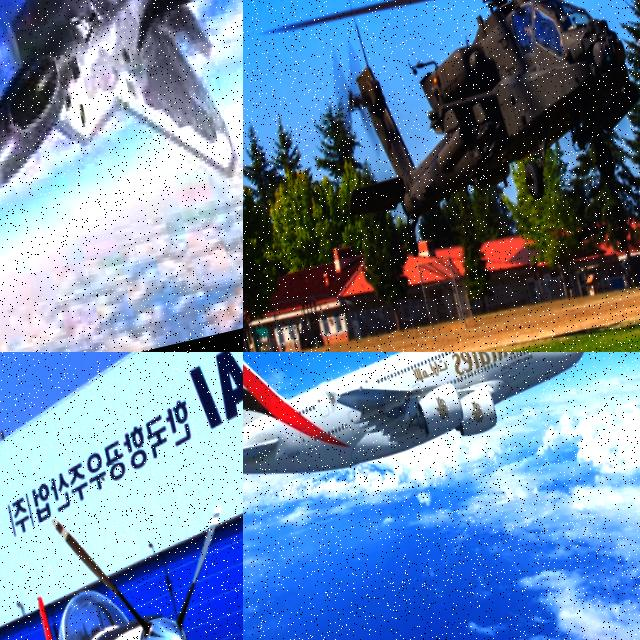A380: (243, 352, 603, 506)
Apache: (243, 0, 640, 266)
F22: (0, 0, 243, 224)
KT-1: (0, 436, 243, 640)
